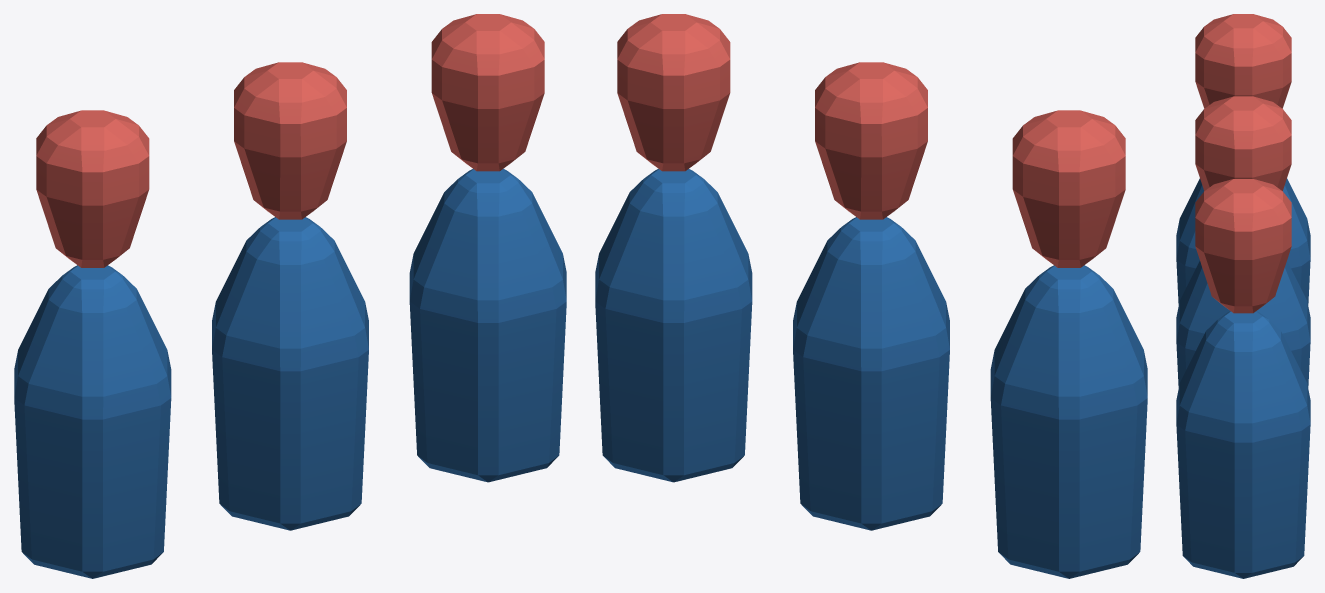
Rendered from dropper_bottles.glb.
The picture shows the model from 3 angles, left to right: view 1: azimuth 30°, elevation 25°; view 2: azimuth 150°, elevation 25°; view 3: azimuth 270°, elevation 25°; orthographic projection. The views are drawn at different scales.
Parts seen in each view (by area): view 1: dropper_bottles; view 2: dropper_bottles; view 3: dropper_bottles.
Part boxes in pixels (<box>): dropper_bottles: <box>14,14,566,578</box>; dropper_bottles: <box>595,14,1147,578</box>; dropper_bottles: <box>1176,14,1310,578</box>.
Bounding box in the file's own units: 0.192 × 0.1459 × 0.0482.
1 material, 1 textured.
